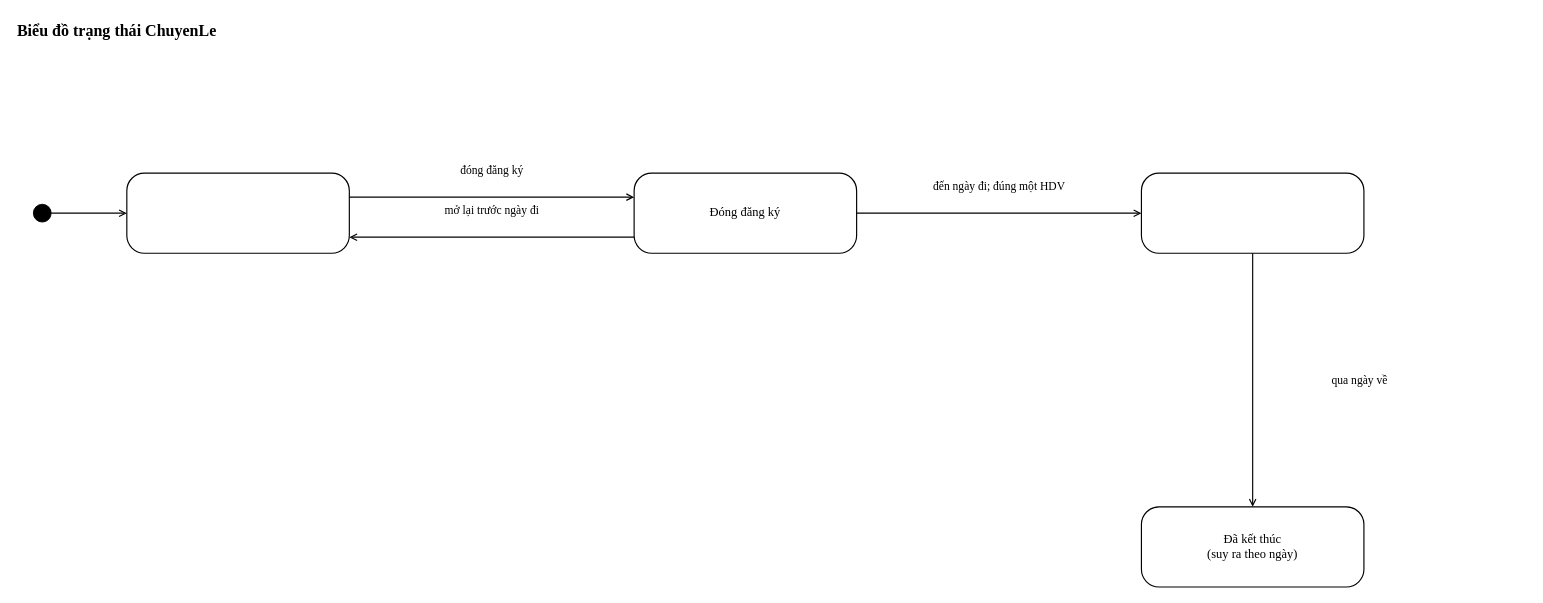
This 1543x603 diagram has some shape labels left out. Here are the shapes that lost their labels. From the top down, the box of each, then its label:
(126, 172, 350, 253): Mở đăng ký
(1140, 172, 1364, 253): Đang thực hiện (suy ra theo ngày)
